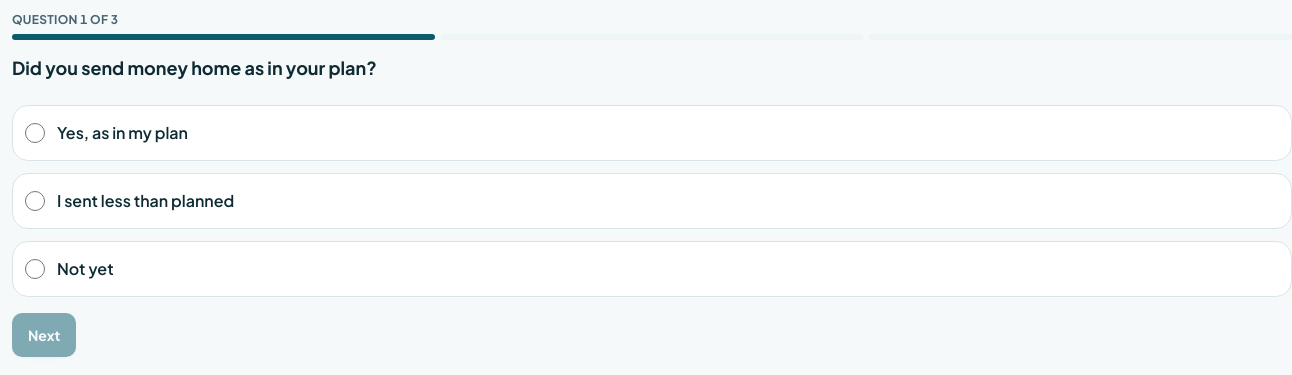
the questions › keep what was chosen when the worker goes back
This screenshot has width=1292, height=375.
Click the radio button labelled "I sent less than planned": (35, 201) [25,191,45,211]
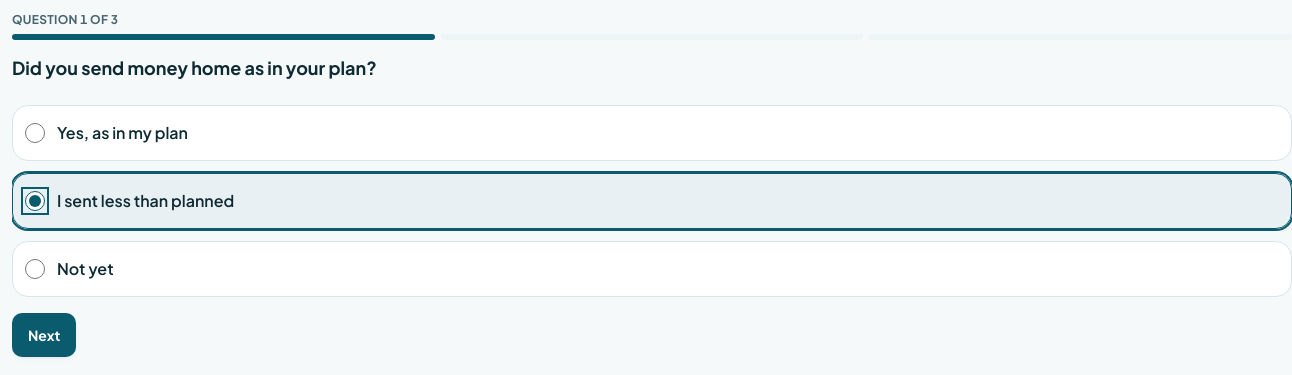
Click the button "Next": (44, 335) [12,313,76,357]
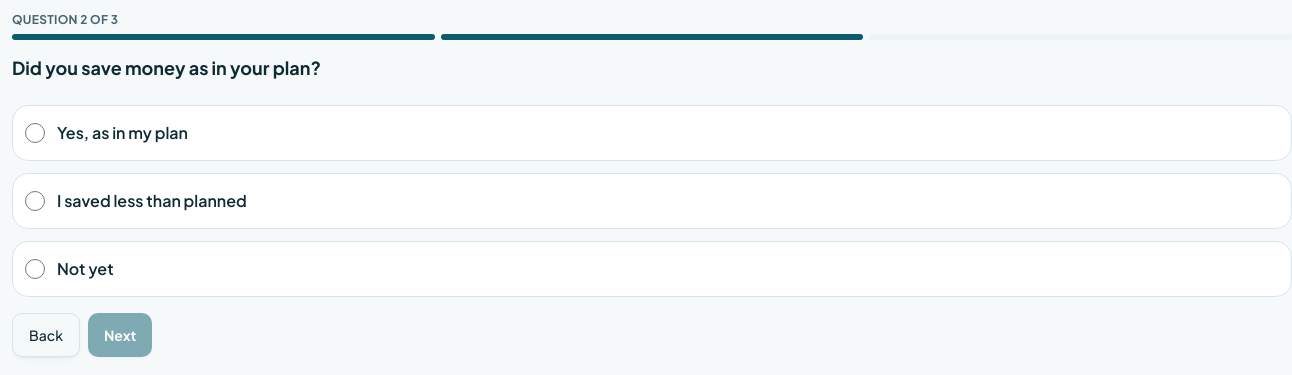
Click the button "Back": (46, 335) [12,313,80,357]
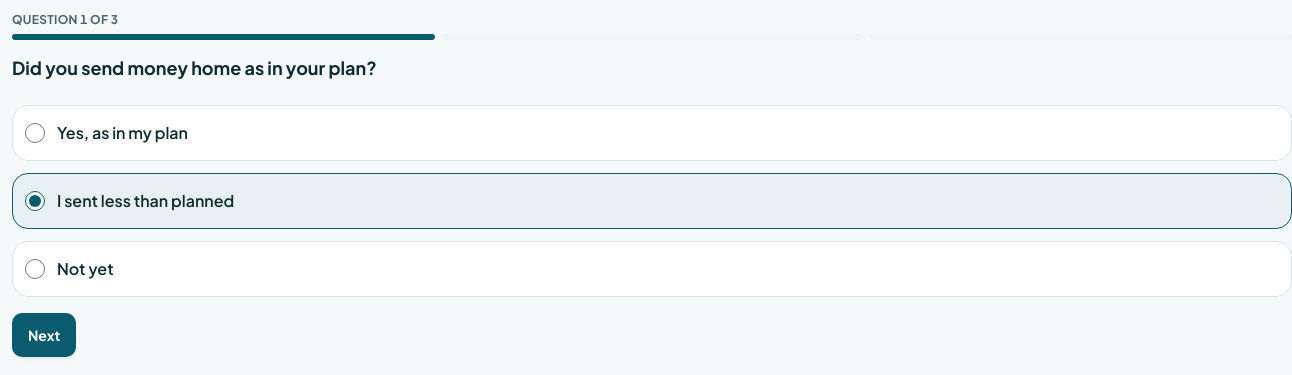
Expected: the radio button labelled "I sent less than planned" is checked, [25,191,45,211]
Expected: the text "Question 1 of 3" is shown, [12,12,118,27]
